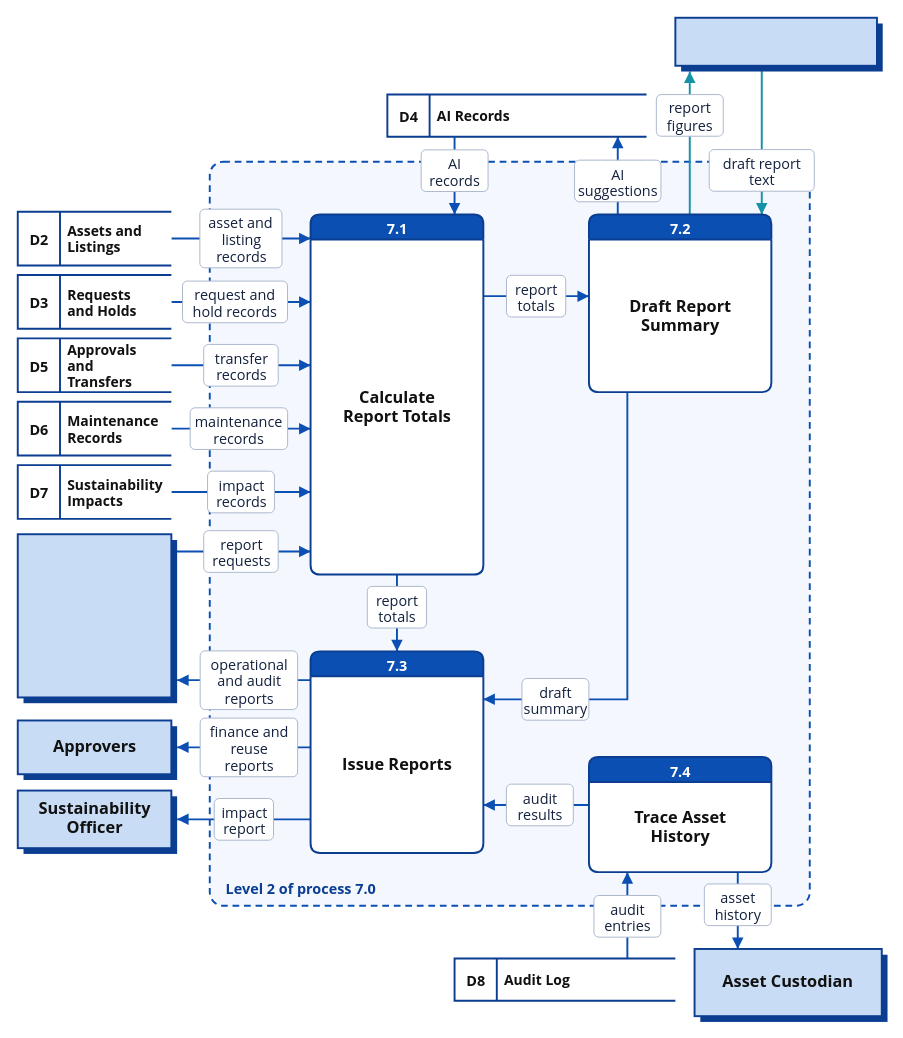
The diagram is 903 pixels wide and 1038 high, and some of its shapes have lost their labels. The centre of each missing label's shape, as x and y in pixels:
Administrators: the point at 94,615
AI Provider: the point at 775,41
